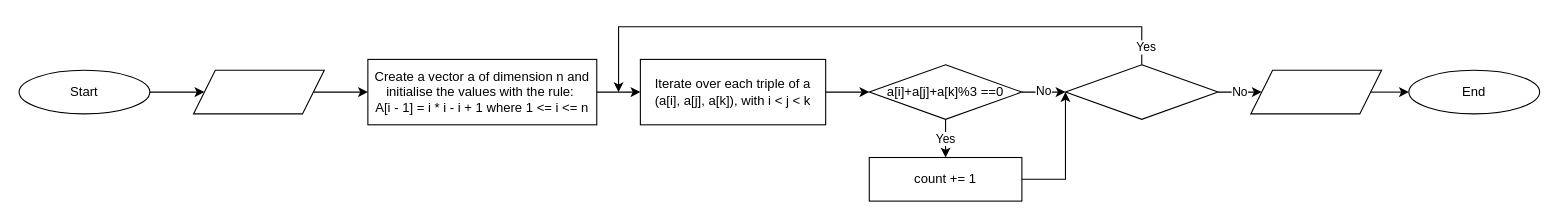
Some shapes in this 1559 by 220 pixel diagram are drawn without their labels. The shapes that lost their labels are listed below. From the top down, each one's box as (x1, y1, x2, y2) in pixels, then its label:
(192, 69, 324, 114): n: int
(1064, 64, 1218, 119): Any triples left?
(1250, 69, 1382, 114): count
